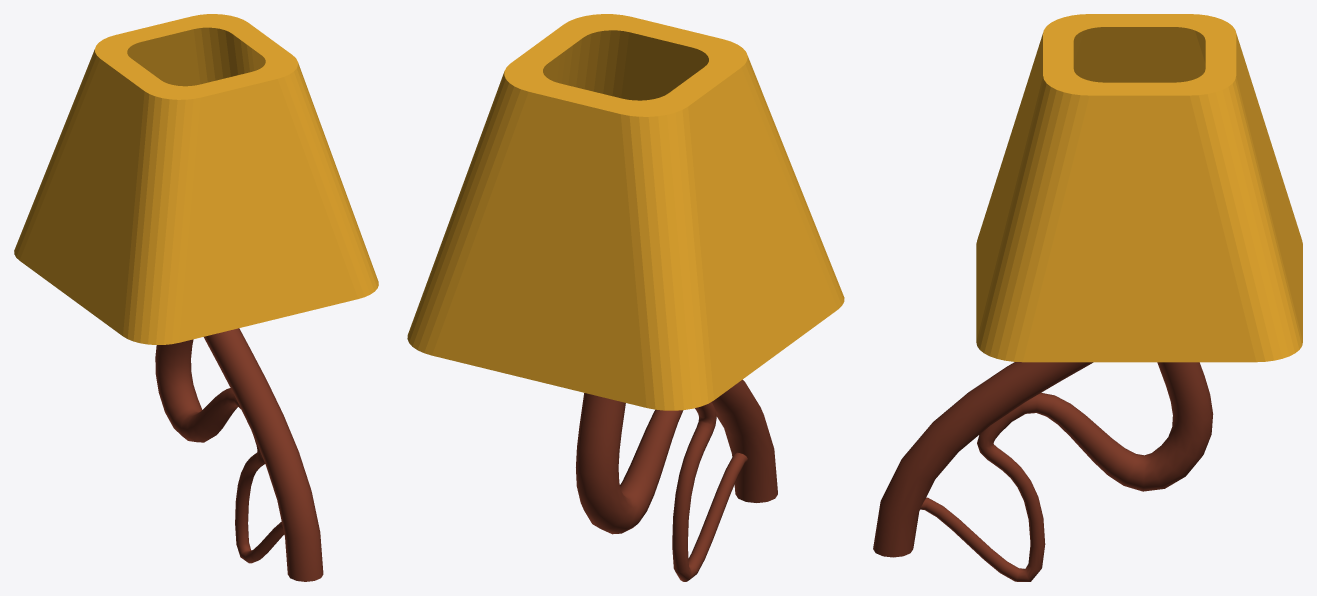
The model's file is lamp_01.glb.
The picture shows the model from 3 angles, left to right: view 1: azimuth 30°, elevation 25°; view 2: azimuth 150°, elevation 25°; view 3: azimuth 270°, elevation 25°; orthographic projection. The views are drawn at different scales.
Parts seen in each view (by area): view 1: Cube, BezierCurve; view 2: Cube, BezierCurve; view 3: Cube, BezierCurve.
Part boxes in pixels (box(x1,y1,x2,y2)): Cube: box(14, 14, 378, 344); BezierCurve: box(155, 328, 323, 581); Cube: box(407, 14, 844, 410); BezierCurve: box(576, 379, 777, 581); Cube: box(976, 14, 1302, 362); BezierCurve: box(873, 362, 1213, 581).
Bounding box in the file's own units: 1.62 × 2.88 × 2.13.
Materials: 2 (2 with a texture image).
